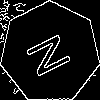N: (25, 27, 80, 80)
